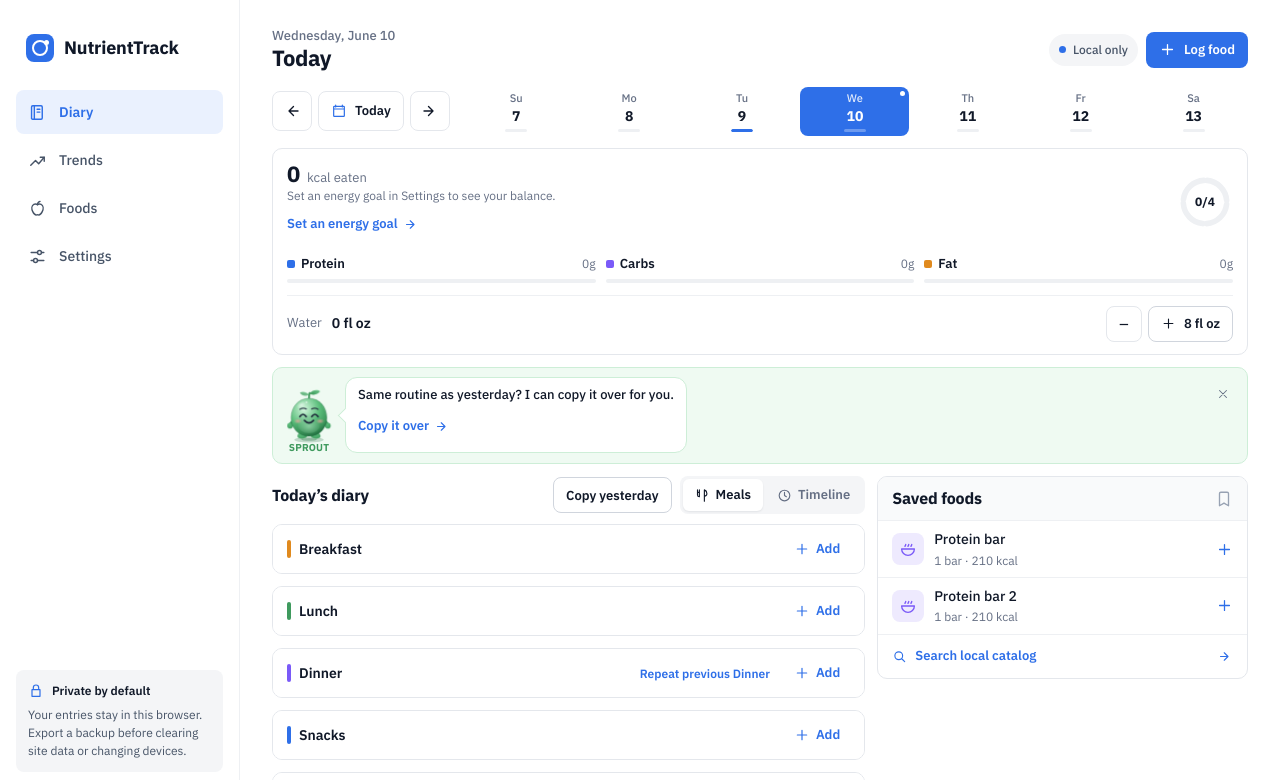
Test: quick add from the Log food sheet › shows the error toast, keeps the sheet open and re-enables buttons when the save fails
The width and height of the screenshot is (1280, 780).
Step 1. Click the button "Log food" → (1197, 50), box x1=1146 y1=32 x2=1248 y2=68
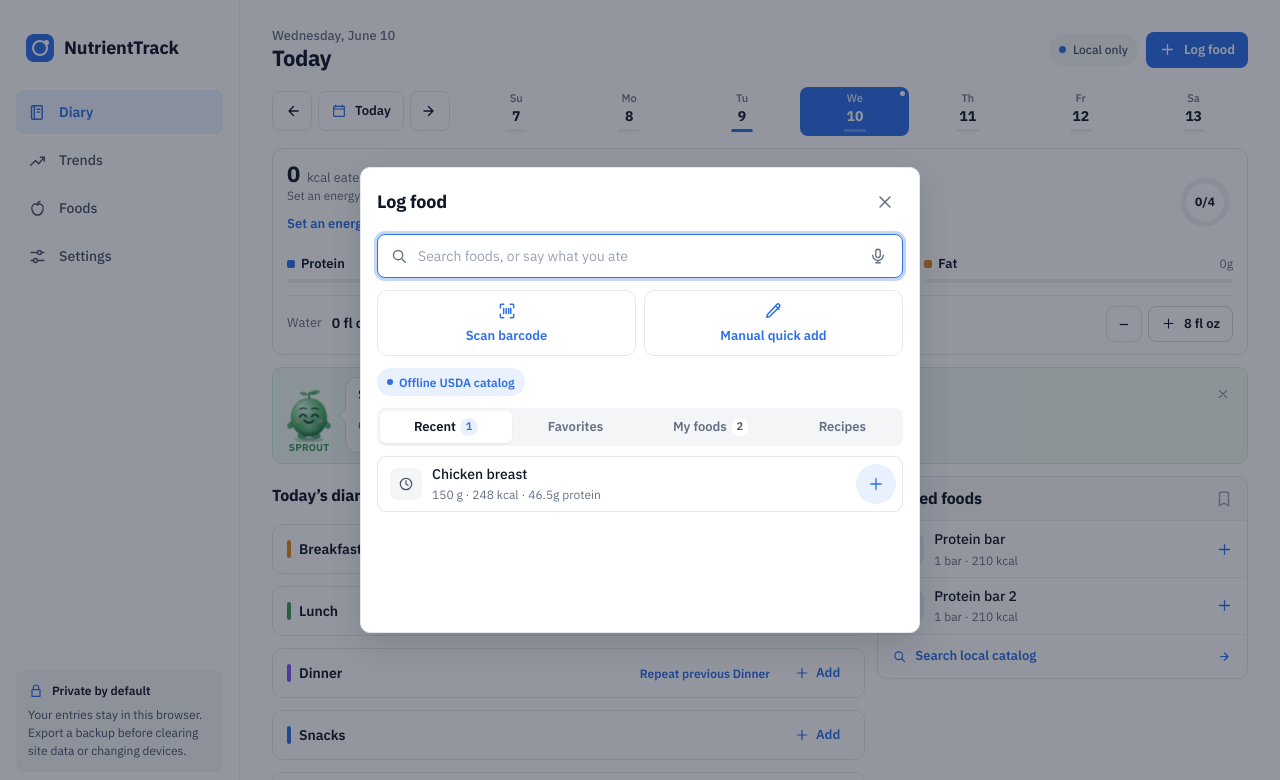
Step 2. Click the tab "My foods 2" → (711, 427), box x1=639 y1=411 x2=783 y2=443
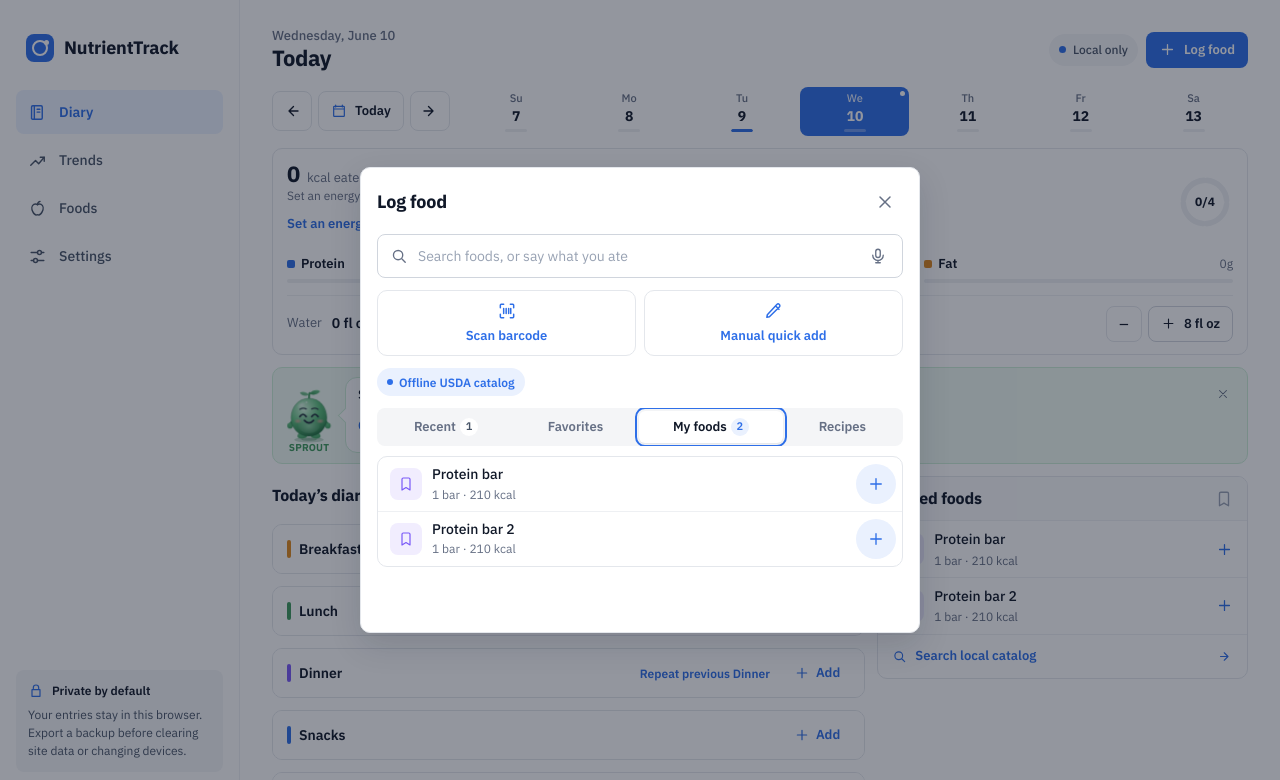
Step 3. Click the button named "Quick add Protein bar" → (876, 484), box x1=856 y1=464 x2=896 y2=504
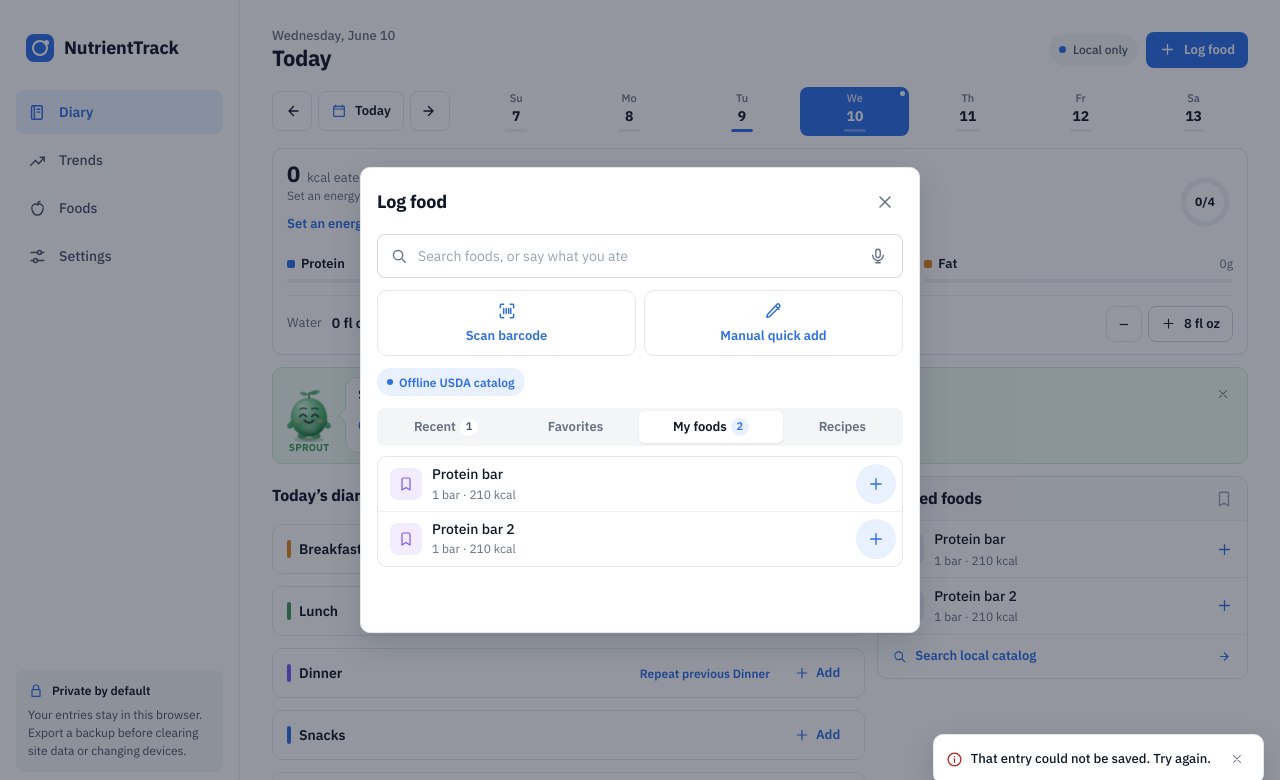
Result: the button named "Quick add " is enabled at x1=856 y1=464 x2=896 y2=504
Result: the text "That entry could not be saved. Try again." is shown at x1=971 y1=750 x2=1211 y2=768
